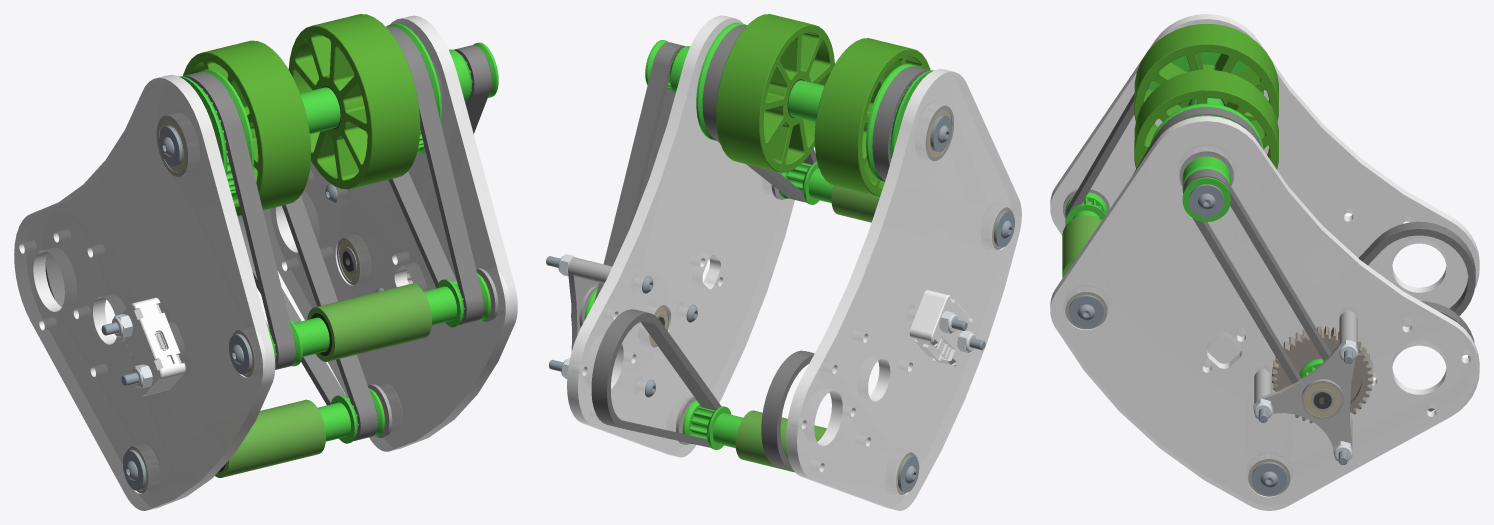
3 views of the same model, side by side, from view 1: azimuth 30°, elevation 25°; view 2: azimuth 150°, elevation 25°; view 3: azimuth 270°, elevation 25° (orthographic). The views are drawn at different scales.
Parts seen in each view (by area): view 1: Manipulator Side Plate (×2), 3" Compliant Wheel (35A, 1" Wide, 1/2" Hex Bore) (×2), 65T HTD Belt (×5), Sushi Roller (35A, 3/8" Hex Bore) (×4), 0.625 in. Hex Spacer (×4), Canandcolor, 36T HTD Pulley (×2), Type B wide flat washer #10 (×3), 12T HTD Pulley (×2), 14T HTD Pulley, 1/2" Rounded Hex (13.75mm) ID Bearing (1.125" OD, 0.313" WD,, 0.375" ID Bearing (0.875" OD, 0.28" WD, Shielded, Flanged); view 2: Manipulator Side Plate (×2), 3" Compliant Wheel (35A, 1" Wide, 1/2" Hex Bore) (×2), 65T HTD Belt (×5), Canandcolor, Sushi Roller (35A, 3/8" Hex Bore) (×2), 36T HTD Pulley (×2), 0.625 in. Hex Spacer (×3), 12T HTD Pulley (×2), Manipulator Reverser Gear Cover, 14T HTD Pulley, 1.312 in. Round Spacer, 1/2" Rounded Hex (13.75mm) ID Bearing (1.125" OD, 0.313" WD,; view 3: Manipulator Side Plate (×2), 3" Compliant Wheel (35A, 1" Wide, 1/2" Hex Bore) (×2), 65T HTD Belt (×4), Manipulator Reverser Gear Cover, 40t Pocketed Aluminum Spur Gear (20 DP, 1/2" Hex Bore), Type B wide flat washer #10 (×3), 14T HTD Pulley, Sushi Roller (35A, 3/8" Hex Bore) (×2), 36T HTD Pulley (×2), 0.375" ID Bearing (0.875" OD, 0.28" WD, Shielded, Flanged), 12T HTD Pulley, 1.312 in. Round Spacer.
Boxes of the visible parts, x1=… form: Manipulator Side Plate (×2): x1=14, y1=15, x2=517, y2=510; 3" Compliant Wheel (35A, 1" Wide, 1/2" Hex Bore) (×2): x1=183, y1=14, x2=420, y2=216; 65T HTD Belt (×5): x1=45, y1=26, x2=491, y2=440; Sushi Roller (35A, 3/8" Hex Bore) (×4): x1=215, y1=283, x2=431, y2=477; 0.625 in. Hex Spacer (×4): x1=294, y1=87, x2=456, y2=441; Canandcolor: x1=120, y1=297, x2=185, y2=395; 36T HTD Pulley (×2): x1=178, y1=23, x2=441, y2=199; Type B wide flat washer #10 (×3): x1=123, y1=126, x2=252, y2=490; 12T HTD Pulley (×2): x1=330, y1=273, x2=490, y2=443; 14T HTD Pulley: x1=449, y1=42, x2=498, y2=102; 1/2" Rounded Hex (13.75mm) ID Bearing (1.125" OD, 0.313" WD,: x1=156, y1=115, x2=187, y2=176; 0.375" ID Bearing (0.875" OD, 0.28" WD, Shielded, Flanged): x1=337, y1=237, x2=359, y2=284; Manipulator Side Plate (×2): x1=567, y1=15, x2=1021, y2=510; 3" Compliant Wheel (35A, 1" Wide, 1/2" Hex Bore) (×2): x1=716, y1=14, x2=930, y2=196; 65T HTD Belt (×5): x1=591, y1=24, x2=929, y2=469; Canandcolor: x1=909, y1=290, x2=973, y2=366; Sushi Roller (35A, 3/8" Hex Bore) (×2): x1=735, y1=185, x2=877, y2=469; 36T HTD Pulley (×2): x1=696, y1=22, x2=934, y2=181; 0.625 in. Hex Spacer (×3): x1=713, y1=80, x2=833, y2=448; 12T HTD Pulley (×2): x1=682, y1=161, x2=819, y2=449; Manipulator Reverser Gear Cover: x1=568, y1=257, x2=598, y2=350; 14T HTD Pulley: x1=645, y1=40, x2=690, y2=94; 1.312 in. Round Spacer: x1=573, y1=258, x2=612, y2=283; 1/2" Rounded Hex (13.75mm) ID Bearing (1.125" OD, 0.313" WD,: x1=925, y1=105, x2=953, y2=161; Manipulator Side Plate (×2): x1=1050, y1=14, x2=1479, y2=510; 3" Compliant Wheel (35A, 1" Wide, 1/2" Hex Bore) (×2): x1=1134, y1=24, x2=1278, y2=169; 65T HTD Belt (×4): x1=1066, y1=86, x2=1475, y2=383; Manipulator Reverser Gear Cover: x1=1254, y1=338, x2=1357, y2=448; 40t Pocketed Aluminum Spur Gear (20 DP, 1/2" Hex Bore): x1=1272, y1=326, x2=1373, y2=423; Type B wide flat washer #10 (×3): x1=1068, y1=184, x2=1286, y2=495; 14T HTD Pulley: x1=1182, y1=156, x2=1230, y2=221; Sushi Roller (35A, 3/8" Hex Bore) (×2): x1=1062, y1=215, x2=1101, y2=278; 36T HTD Pulley (×2): x1=1149, y1=52, x2=1263, y2=150; 0.375" ID Bearing (0.875" OD, 0.28" WD, Shielded, Flanged): x1=1301, y1=379, x2=1343, y2=419; 12T HTD Pulley: x1=1065, y1=192, x2=1107, y2=225; 1.312 in. Round Spacer: x1=1339, y1=311, x2=1357, y2=344.
Bounding box in the file's own units: 0.2096 × 0.2323 × 0.2258.
